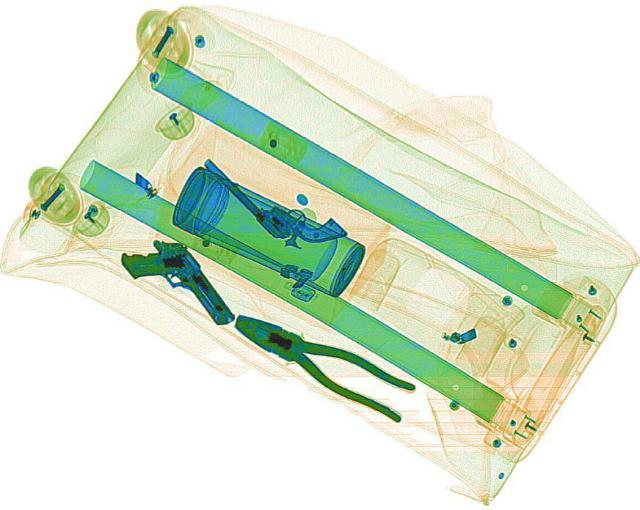Gun: (198, 133, 346, 259), (113, 229, 240, 341)
Pliers: (217, 297, 428, 422)
